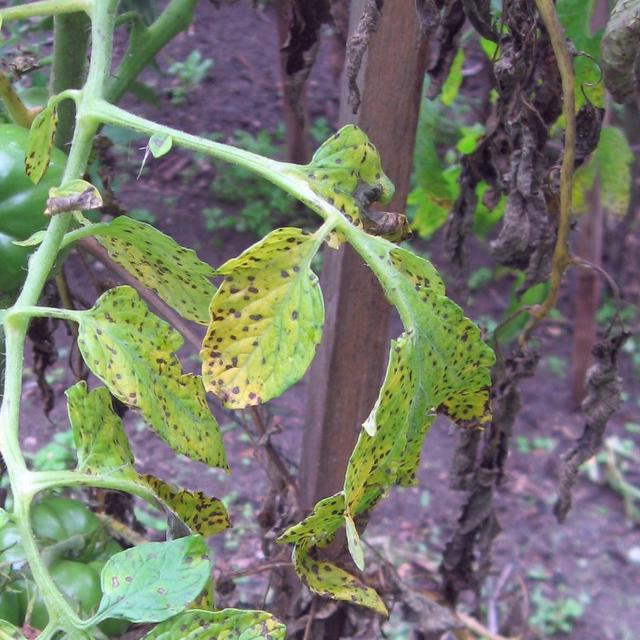Tomato Septoria leaf spot: (276, 198, 532, 571), (60, 278, 234, 491), (196, 218, 349, 412), (32, 585, 345, 640), (0, 620, 46, 640)
